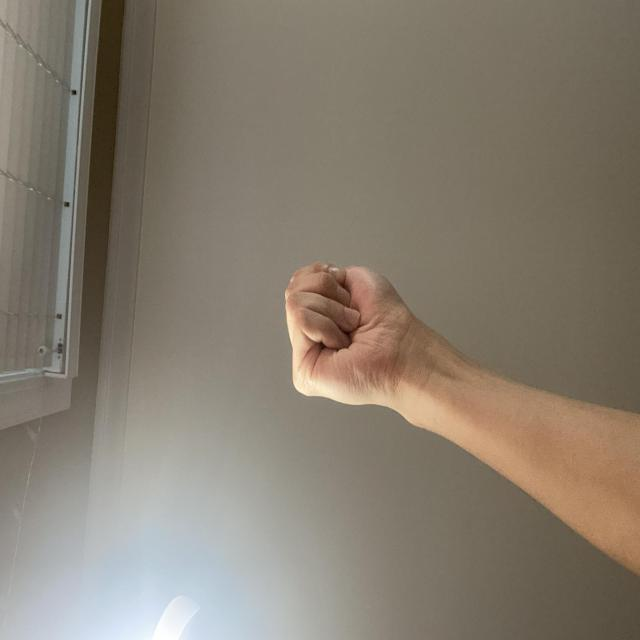M: (166, 376, 290, 560)
